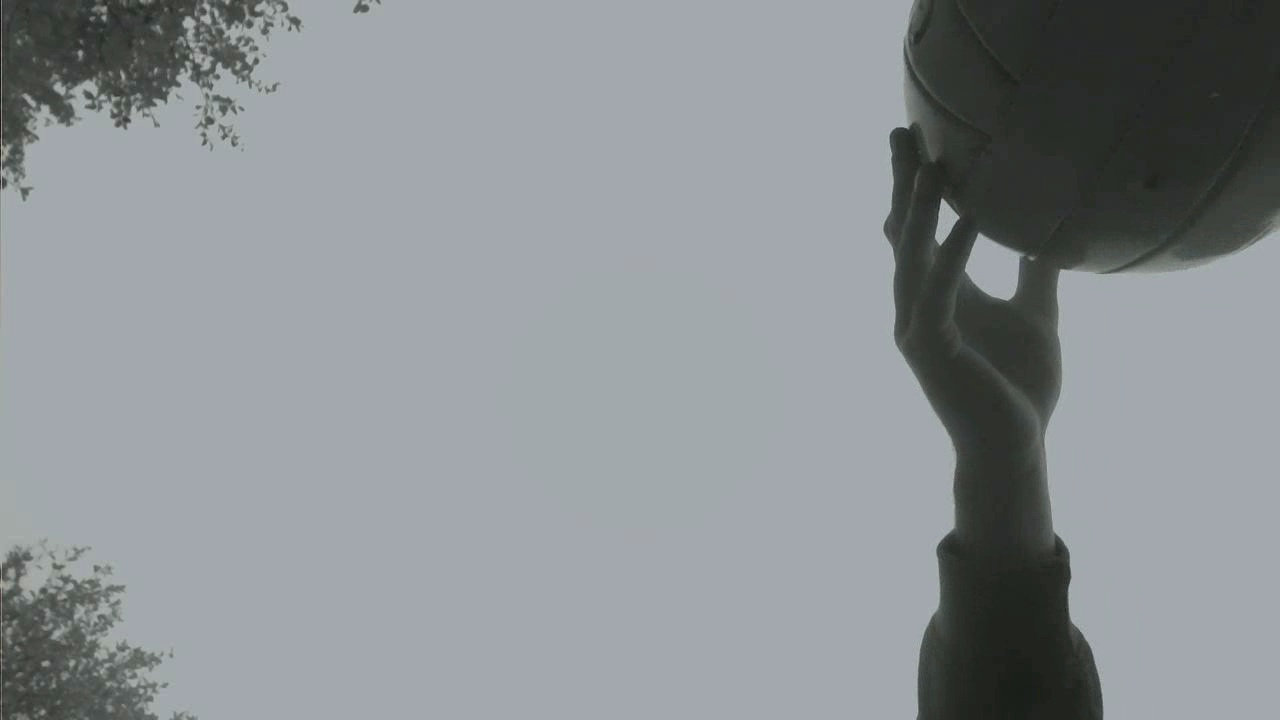Football-Spotter: (904, 0, 1279, 272)
